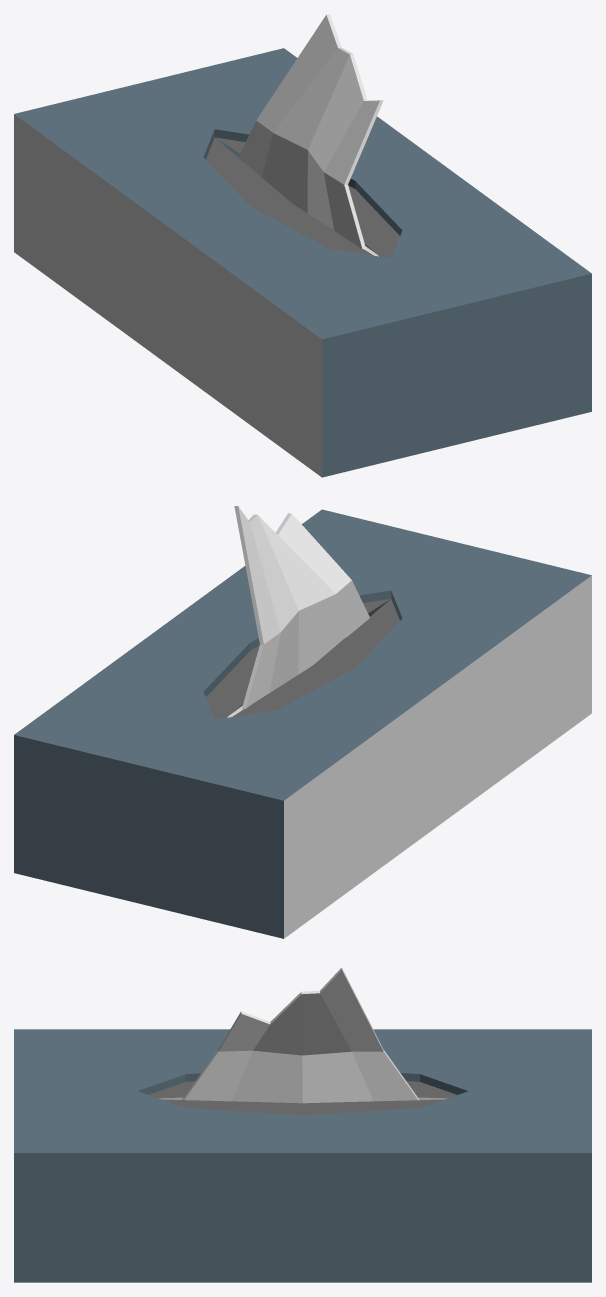
File: tissues.fbx
3 views of the same model, one above another, from view 1: azimuth 30°, elevation 25°; view 2: azimuth 150°, elevation 25°; view 3: azimuth 270°, elevation 25° (orthographic). The views are drawn at different scales.
Visible parts, largest first — view 1: Tissue Box; view 2: Tissue Box; view 3: Tissue Box.
Part boxes in pixels (x1=…): Tissue Box: x1=14, y1=14, x2=591, y2=477; Tissue Box: x1=14, y1=506, x2=591, y2=938; Tissue Box: x1=14, y1=967, x2=591, y2=1282.
Size of the model in its own units: 1070 by 1104 by 2115.
